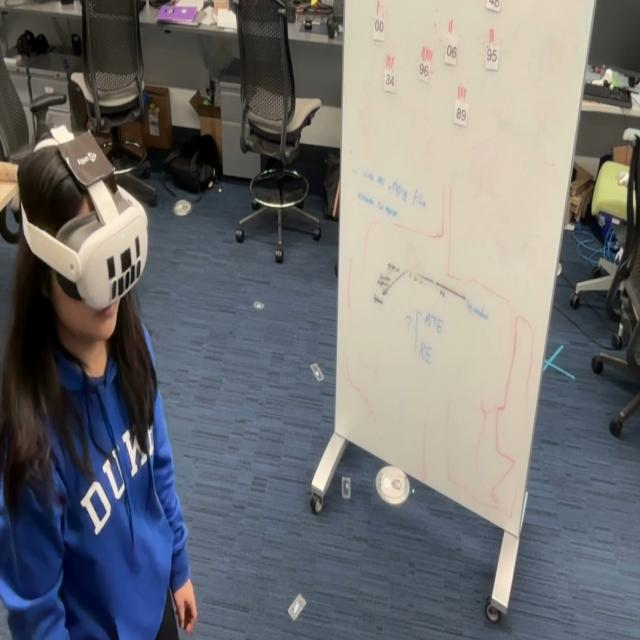Headset: (17, 128, 149, 312)
UnityLogo: (56, 126, 116, 190)
